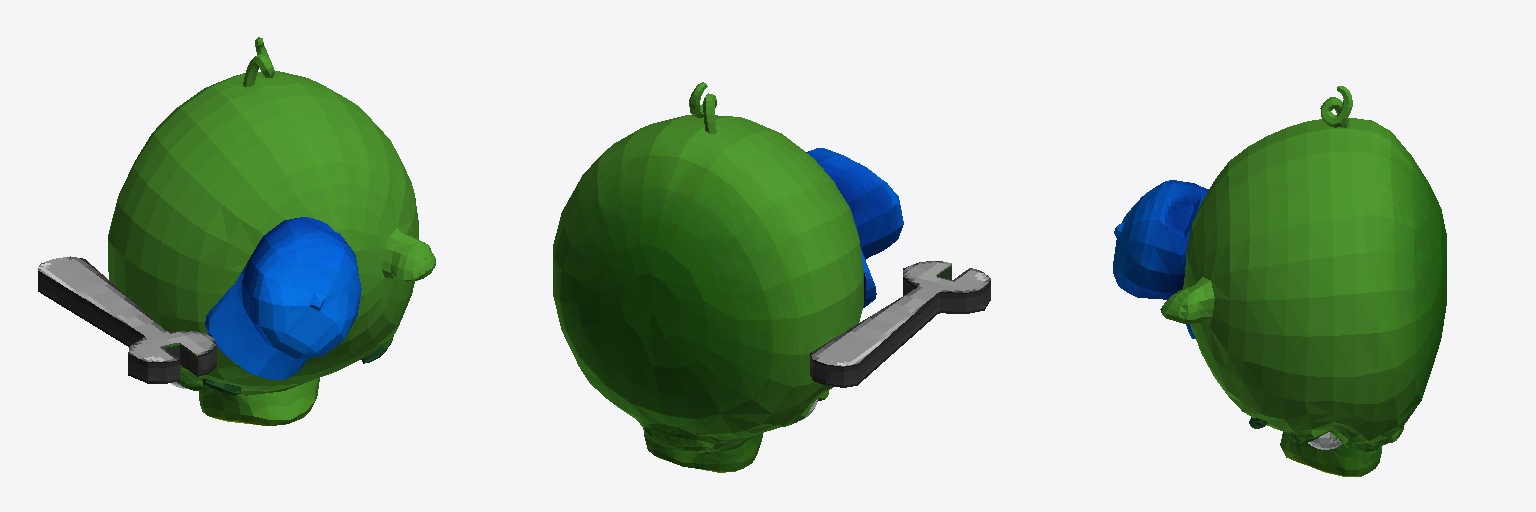
The picture shows the model from 3 angles: view 1: azimuth 30°, elevation 25°; view 2: azimuth 150°, elevation 25°; view 3: azimuth 270°, elevation 25°; orthographic projection.
Visible parts, largest first — view 1: <SMD_root>; view 2: <SMD_root>; view 3: <SMD_root>.
Part boxes in pixels (x1,y1,x2,y2): <SMD_root>: (38,37,435,425); <SMD_root>: (553,82,990,472); <SMD_root>: (1113,86,1446,476).
Bounding box in the file's own units: 42.95 × 44.64 × 36.16.
Materials: 1 (1 with a texture image).